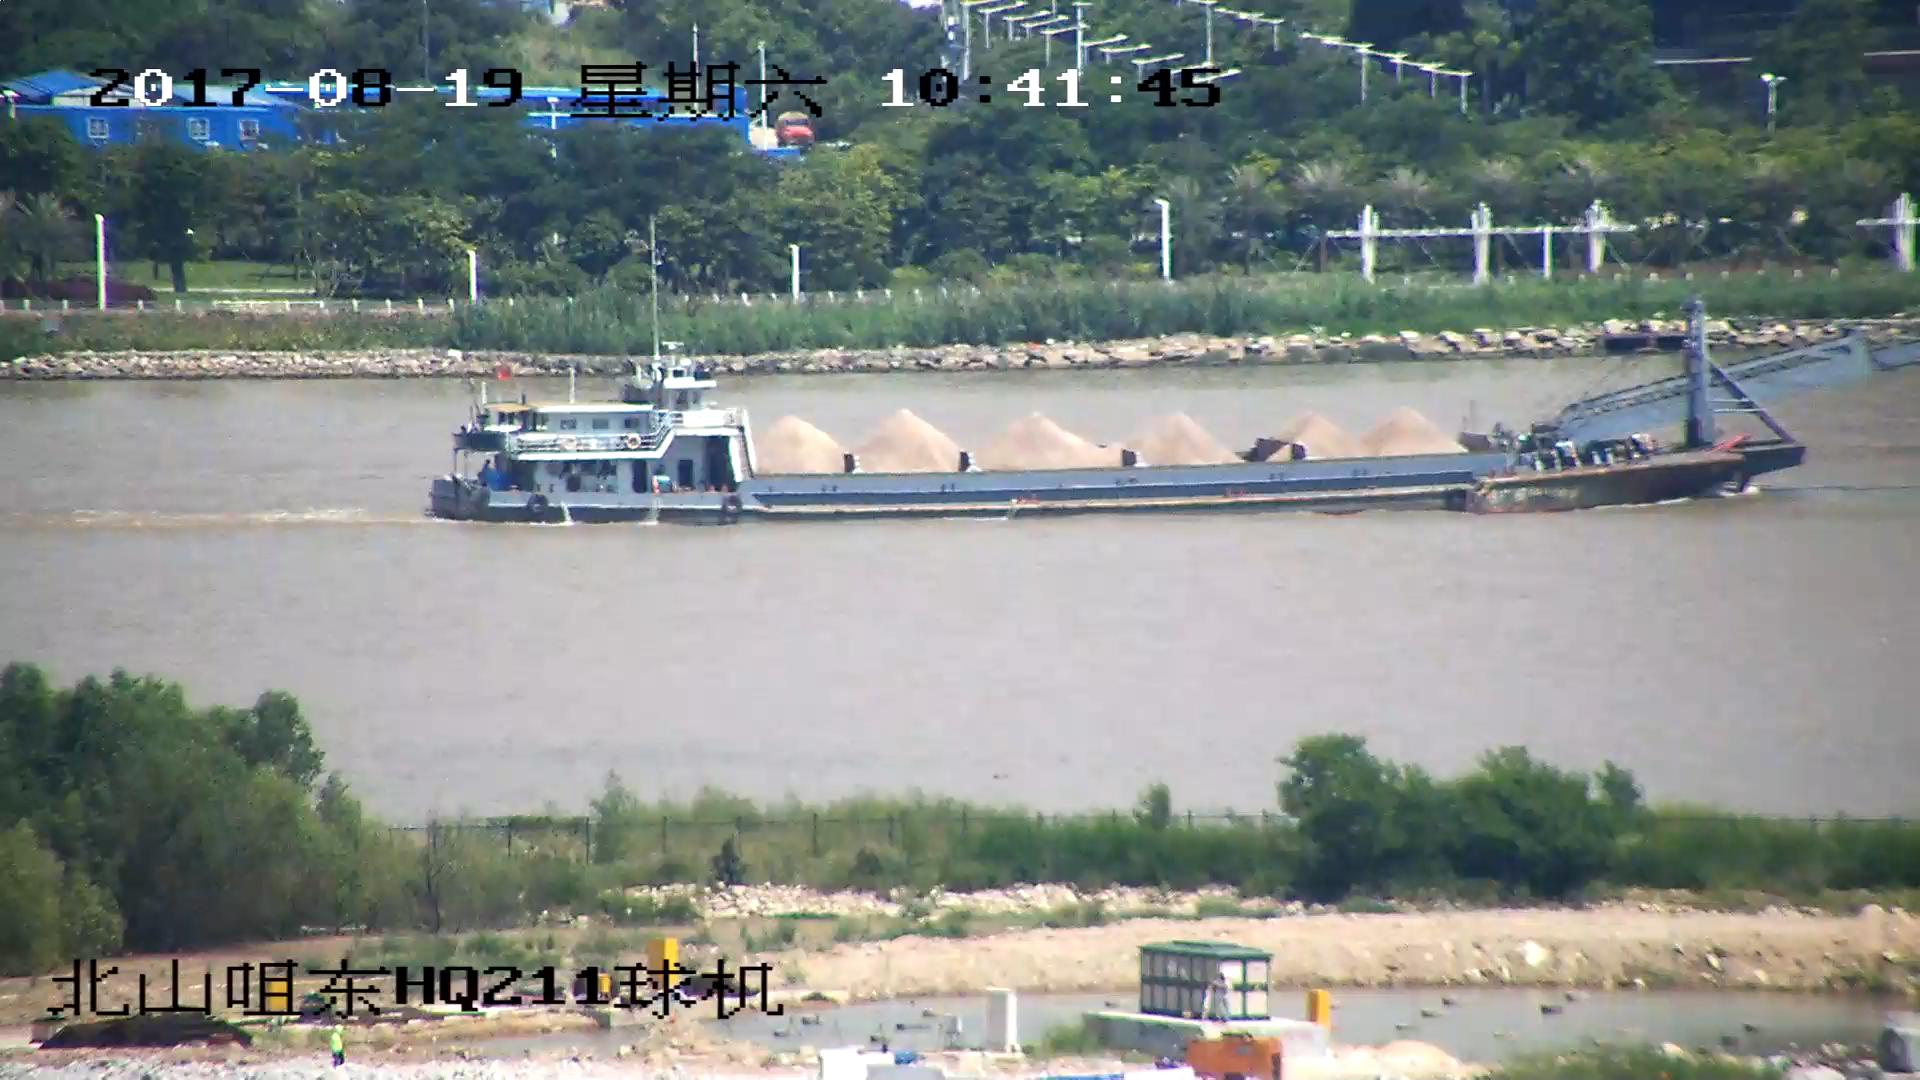ore carrier: (429, 250, 1920, 525)
